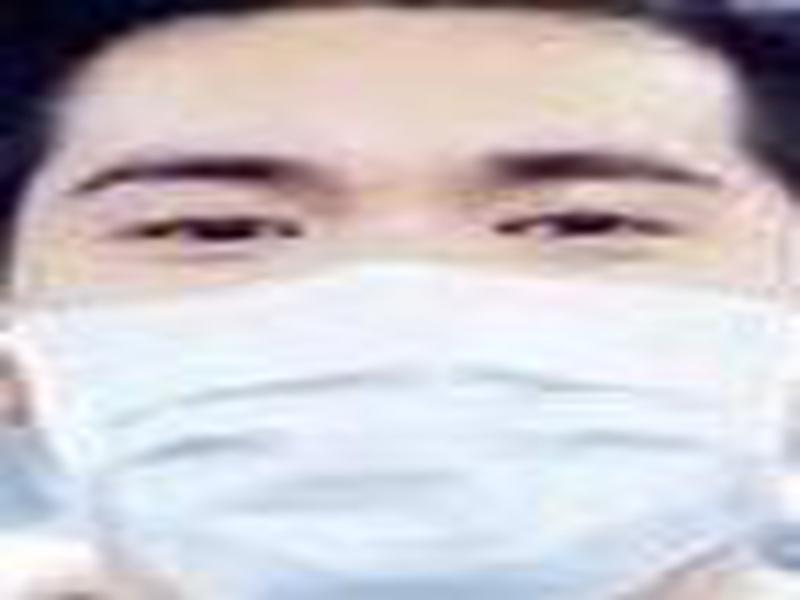with_mask: (1, 13, 795, 600)
